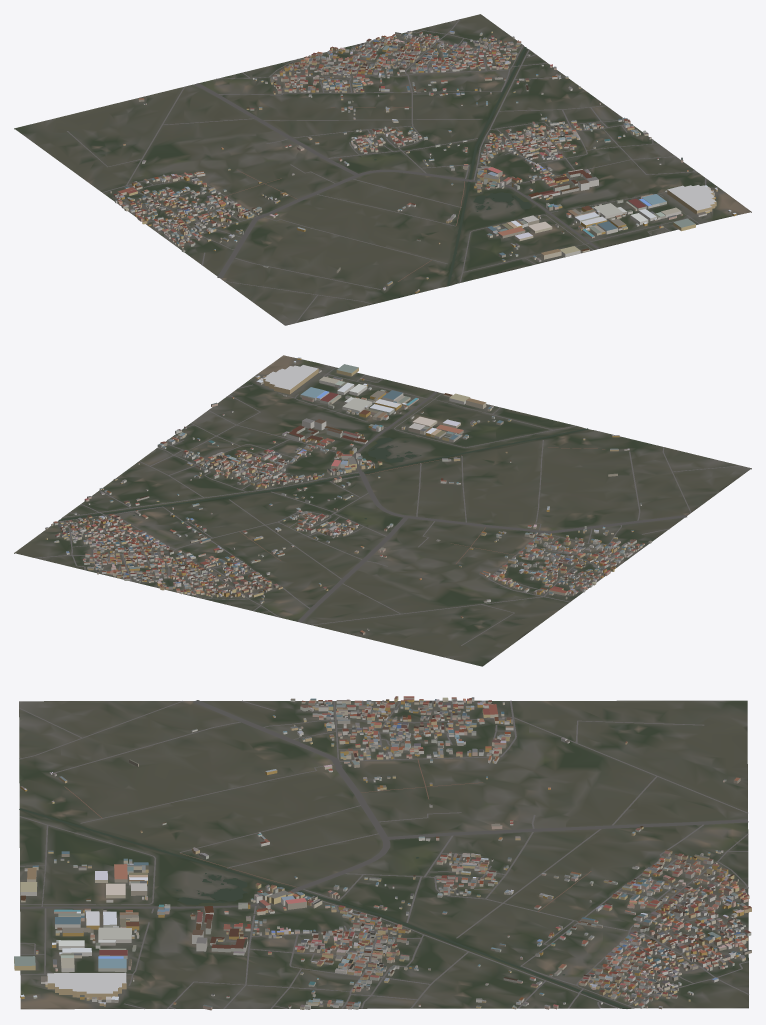
3 views of the same model, one above another, from view 1: azimuth 30°, elevation 25°; view 2: azimuth 150°, elevation 25°; view 3: azimuth 270°, elevation 25° (orthographic). The views are drawn at different scales.
Visible parts, largest first — view 1: ground, buildings, roads, water; view 2: ground, buildings, roads, water; view 3: ground, buildings, roads, water.
Part boxes in pixels (bbox=[...]): ground: bbox=[14, 14, 751, 325]; buildings: bbox=[110, 31, 736, 293]; roads: bbox=[67, 19, 706, 323]; water: bbox=[374, 47, 531, 285]; ground: bbox=[14, 355, 751, 666]; buildings: bbox=[45, 357, 651, 634]; roads: bbox=[35, 367, 741, 645]; water: bbox=[58, 428, 588, 520]; ground: bbox=[19, 700, 748, 1009]; buildings: bbox=[14, 696, 751, 1010]; roads: bbox=[19, 700, 748, 1009]; water: bbox=[19, 808, 628, 1008].
Size of the model in its own units: 1413 by 23.67 by 1420.
